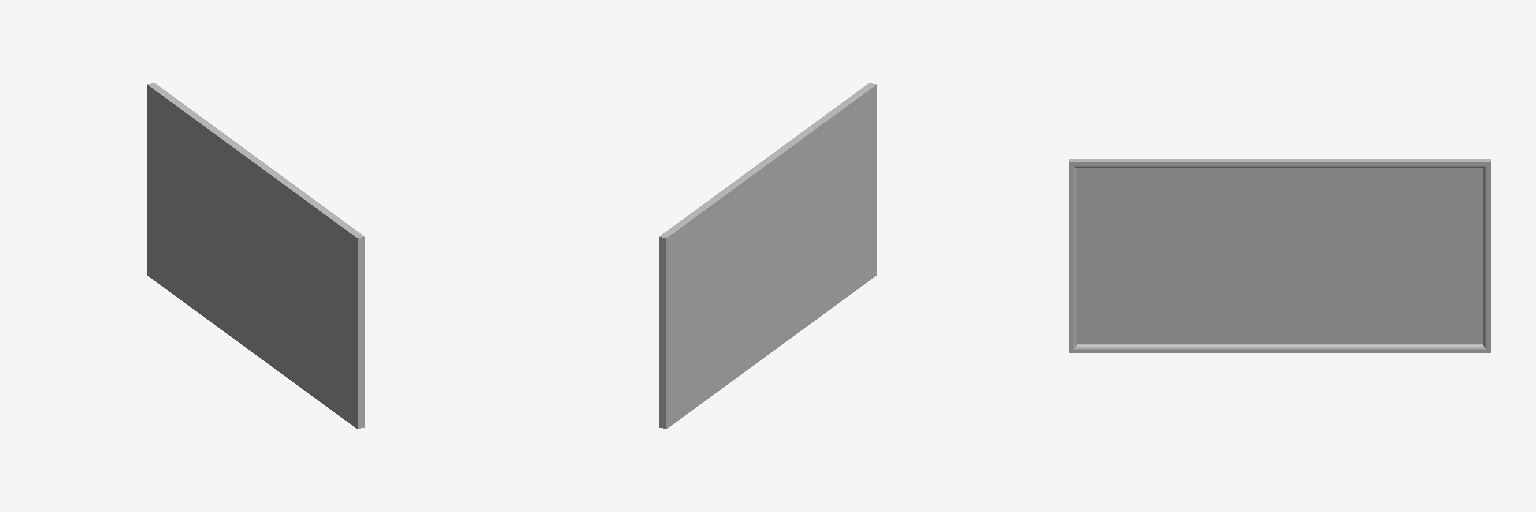
Rendered from WhiteBoard.obj.
3 views of the same model, side by side, from view 1: azimuth 30°, elevation 25°; view 2: azimuth 150°, elevation 25°; view 3: azimuth 270°, elevation 25° (orthographic).
Visible parts, largest first — view 1: Whiteboard; view 2: Whiteboard; view 3: Whiteboard.
Part boxes in pixels (left/top/right/bottom): Whiteboard: left=147, top=83, right=364, bottom=428; Whiteboard: left=659, top=83, right=876, bottom=428; Whiteboard: left=1069, top=159, right=1490, bottom=352.
Size of the model in its own units: 0.04 by 1 by 2.